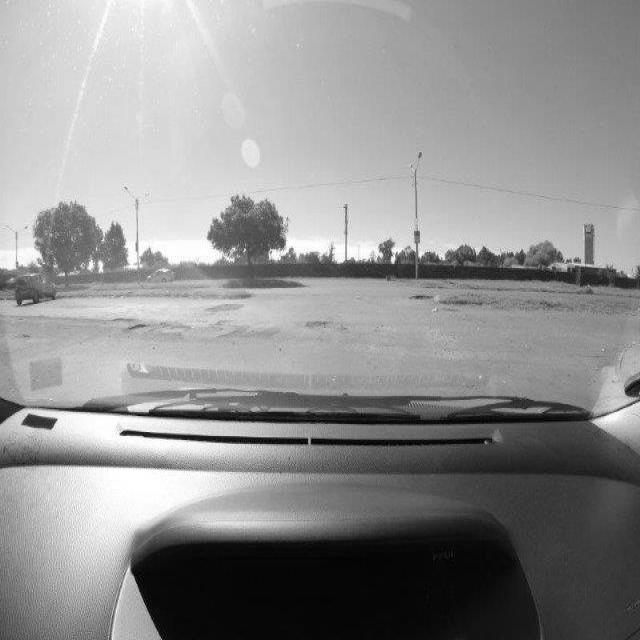lubang: (110, 314, 194, 342), (215, 325, 282, 345), (301, 314, 349, 336), (202, 300, 248, 316), (207, 314, 234, 332), (406, 291, 434, 303), (20, 329, 32, 343)
